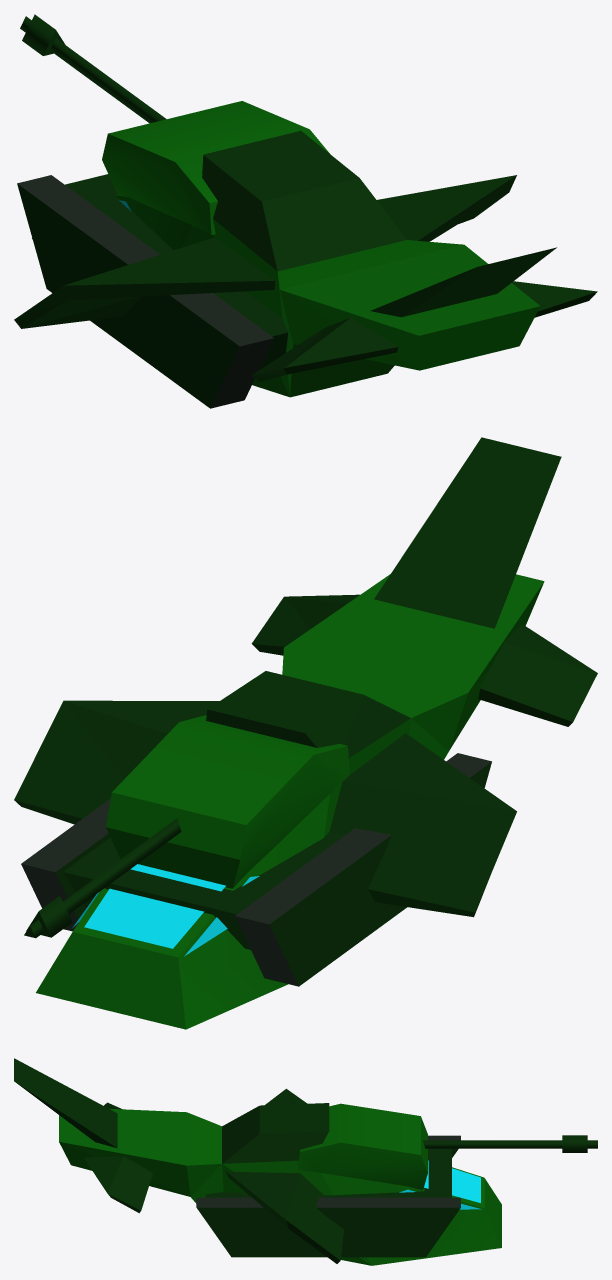
The model's file is FoWAssets.fbx.
3 renders of one model, top to bottom at view 1: azimuth 30°, elevation 25°; view 2: azimuth 150°, elevation 25°; view 3: azimuth 270°, elevation 25°, orthographic. The views are drawn at different scales.
Parts seen in each view (by area): view 1: Copter, Tank; view 2: Copter, Tank; view 3: Copter, Tank.
Boxes of the visible parts, x1,y1,x2,y2 form: Copter: (14, 131, 597, 397); Tank: (17, 14, 329, 408); Copter: (14, 437, 597, 1029); Tank: (21, 715, 491, 986); Copter: (14, 1058, 501, 1265); Tank: (196, 1103, 597, 1257).
Size of the model in its own units: 65.94 by 39.61 by 122.
